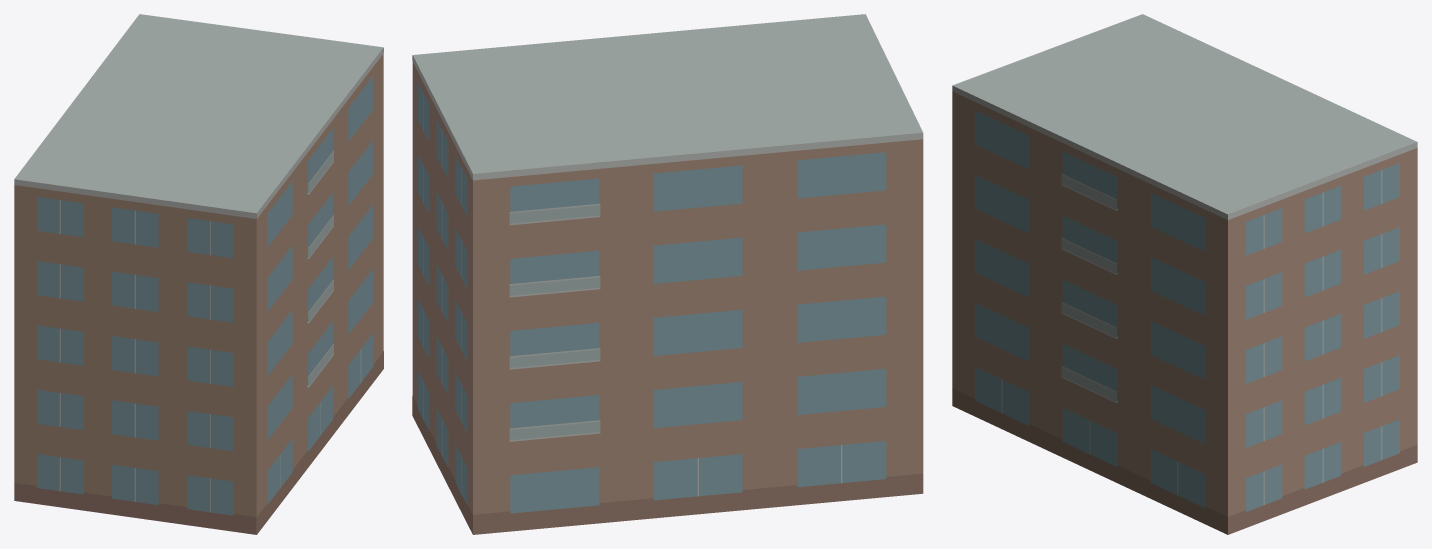
Rendered from survey-upis-32839588.glb.
The picture shows the model from 3 angles, left to right: view 1: azimuth 30°, elevation 25°; view 2: azimuth 150°, elevation 25°; view 3: azimuth 270°, elevation 25°; orthographic projection. The views are drawn at different scales.
Visible parts, largest first — view 1: survey-upis-32839588.tmp; view 2: survey-upis-32839588.tmp; view 3: survey-upis-32839588.tmp.
Part boxes in pixels (x1,y1,x2,y2): survey-upis-32839588.tmp: (14, 14, 383, 534); survey-upis-32839588.tmp: (412, 14, 923, 534); survey-upis-32839588.tmp: (952, 14, 1417, 534).
Bounding box in the file's own units: 18.39 × 13.7 × 18.04.
